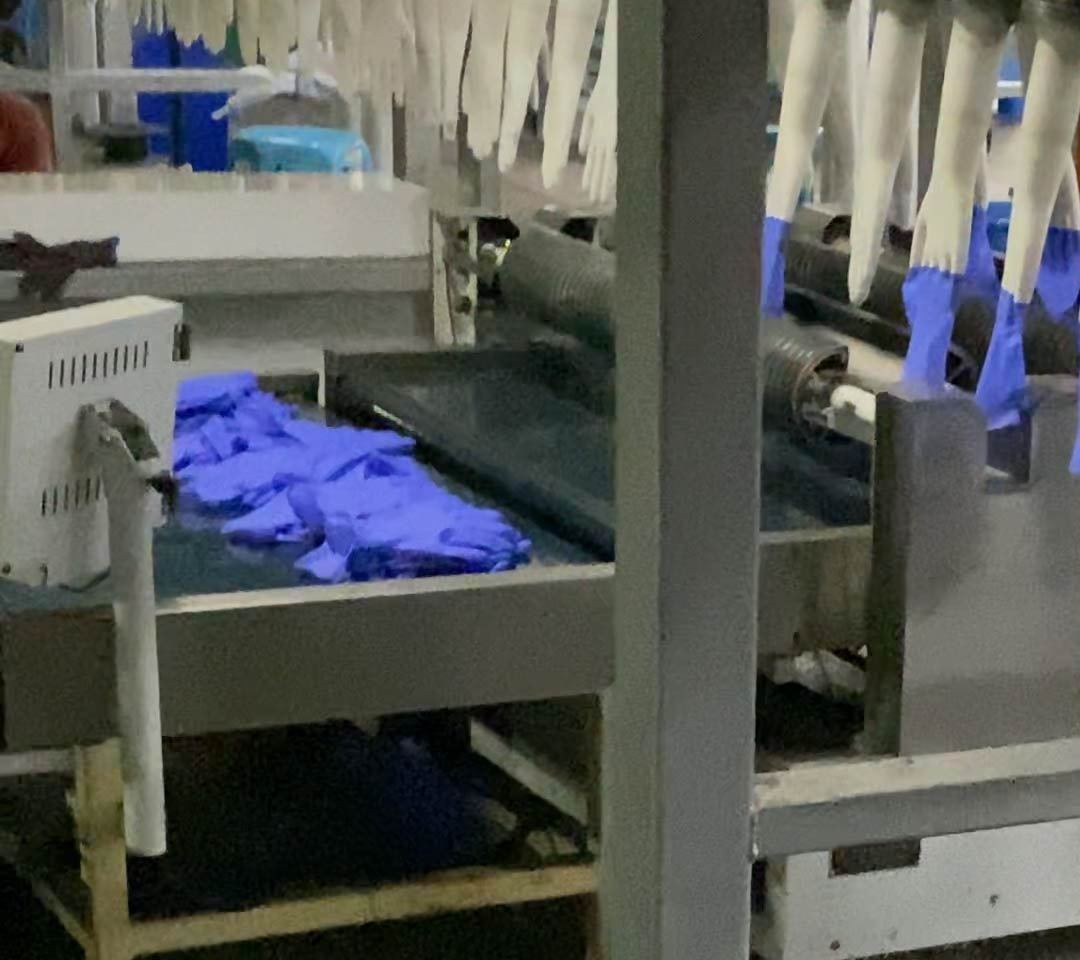glove: (893, 265, 958, 391), (971, 290, 1026, 436)
